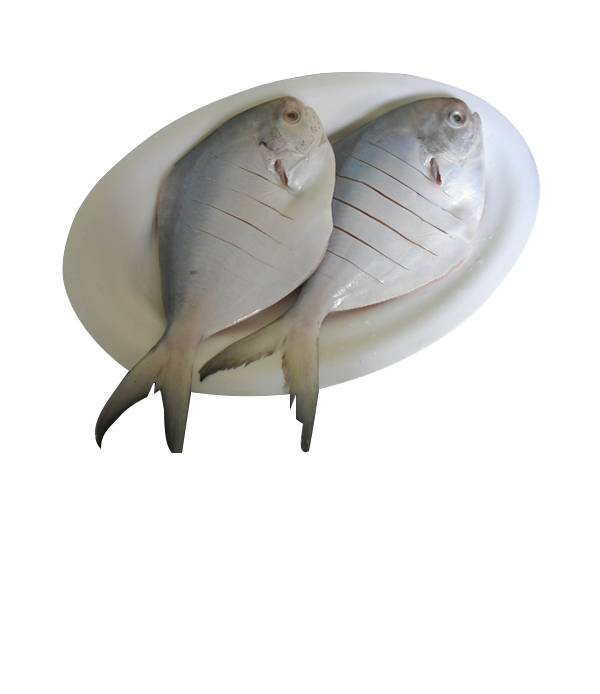Pomfret: (200, 91, 489, 458), (90, 91, 336, 456)
